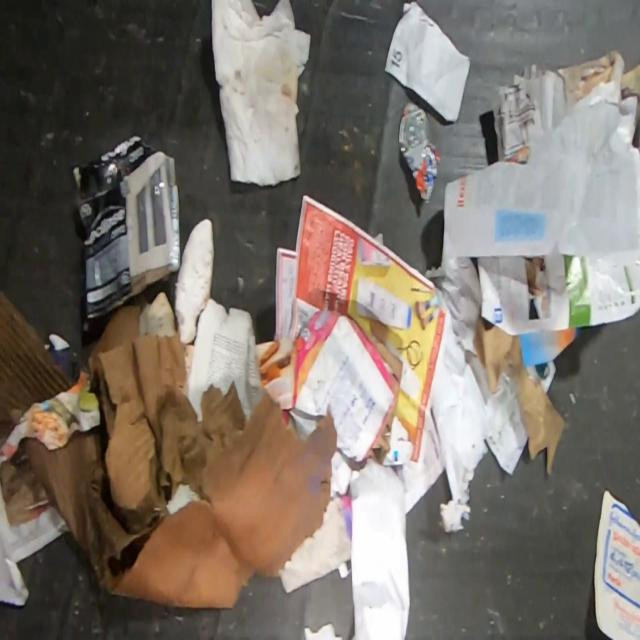cardboard: (94, 334, 246, 533), (72, 133, 182, 320), (0, 290, 77, 456)
metal: (398, 99, 442, 208)
